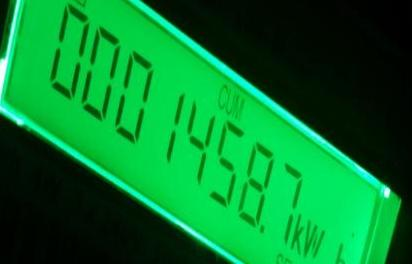.: (287, 211, 348, 264)
0: (257, 221, 267, 236)
1: (116, 43, 156, 147), (50, 4, 92, 100), (82, 20, 121, 123)
2: (163, 89, 186, 169)
5: (183, 94, 214, 188)
6: (206, 119, 244, 211)
8: (277, 161, 306, 244)
9: (238, 140, 276, 228)
